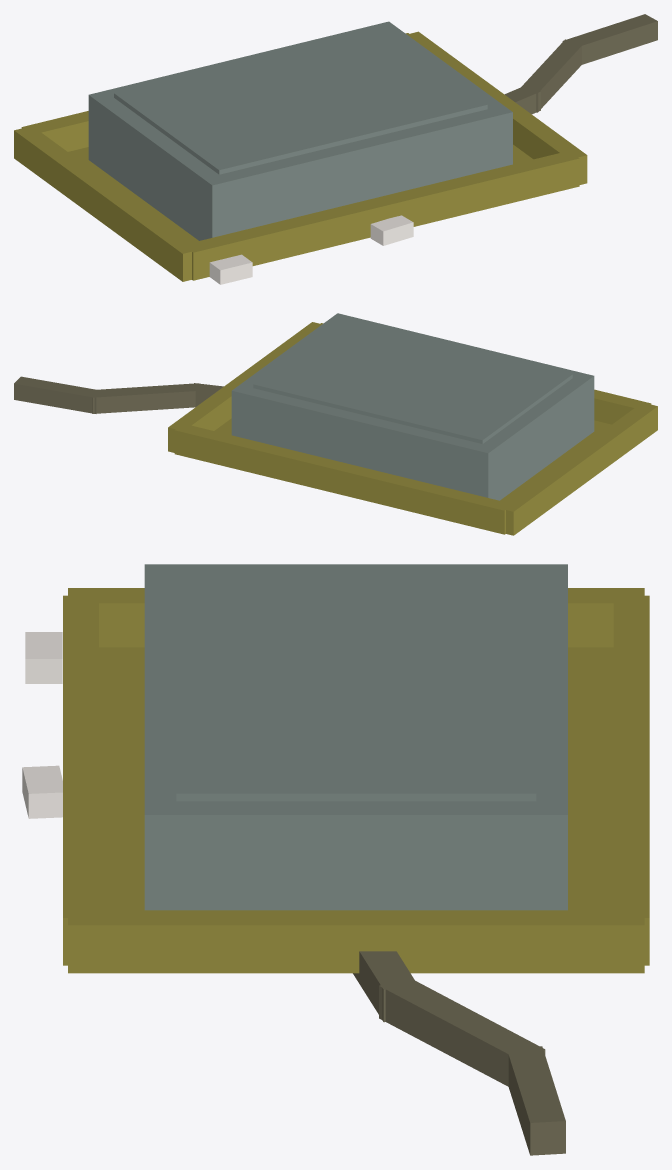
Rendered from SM_CisternaFlexible_v0_Llena_LOD1.fbx.
The picture shows the model from 3 angles, top to bottom: view 1: azimuth 30°, elevation 25°; view 2: azimuth 150°, elevation 25°; view 3: azimuth 270°, elevation 25°; orthographic projection. The views are drawn at different scales.
Parts seen in each view (by area): view 1: SM_farp_betera_v0_LOD1; view 2: SM_farp_betera_v0_LOD1; view 3: SM_farp_betera_v0_LOD1.
Part boxes in pixels (box(x1,y1,x2,y2)): SM_farp_betera_v0_LOD1: box(14, 14, 657, 284); SM_farp_betera_v0_LOD1: box(14, 313, 657, 535); SM_farp_betera_v0_LOD1: box(22, 564, 649, 1155).
Bounding box in the file's own units: 11.38 × 1.39 × 5.92.
